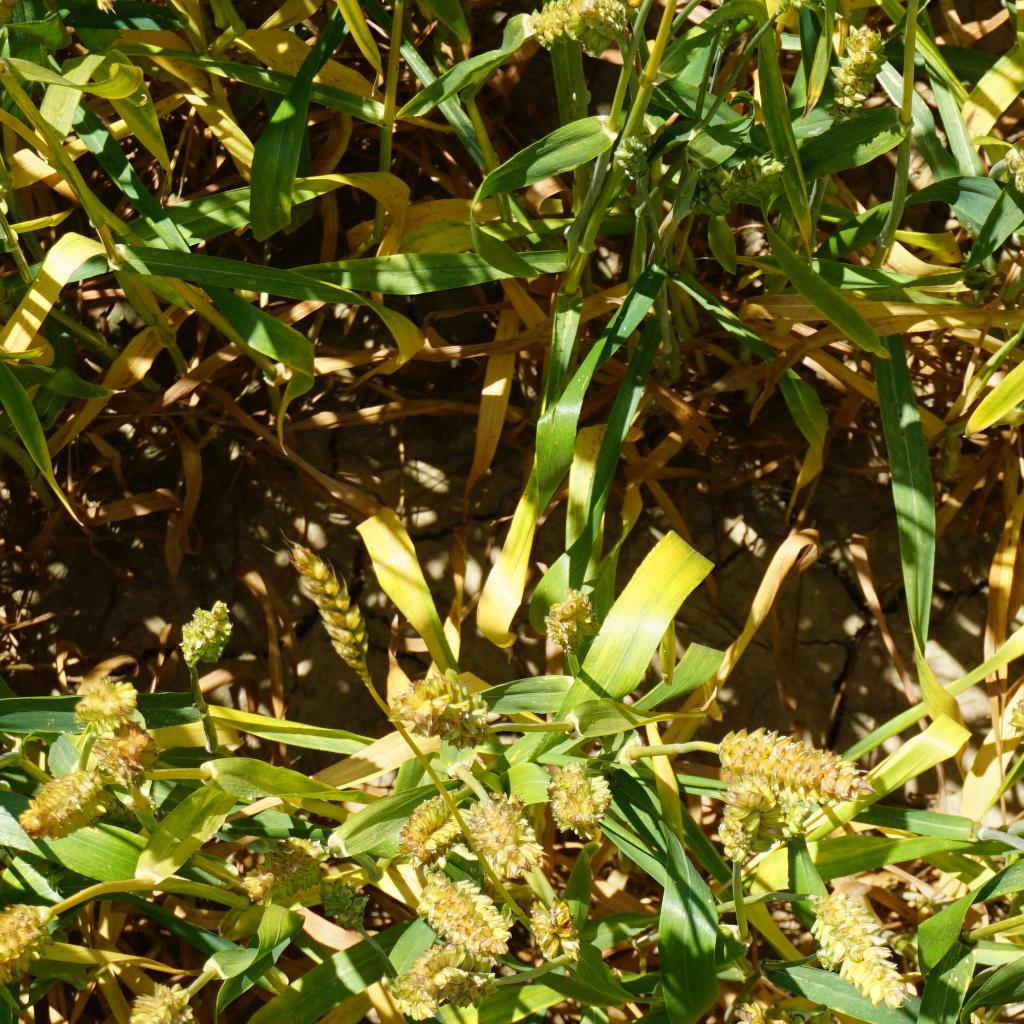0-0: (685, 713, 881, 806), (279, 530, 374, 685), (795, 882, 908, 999), (18, 752, 115, 846), (679, 147, 787, 228), (453, 790, 545, 885), (404, 873, 512, 953), (235, 826, 334, 904), (396, 674, 492, 751), (826, 18, 893, 122), (401, 930, 499, 998), (395, 783, 469, 867), (715, 772, 784, 852), (541, 583, 615, 656), (380, 956, 457, 1024), (548, 760, 615, 835), (534, 0, 627, 54), (175, 597, 239, 673), (113, 974, 207, 1024), (524, 887, 584, 964), (75, 671, 150, 731), (0, 899, 45, 993), (310, 875, 373, 932), (91, 727, 168, 771), (719, 996, 807, 1024), (609, 133, 653, 181), (0, 0, 28, 64), (1001, 141, 1024, 201), (1011, 688, 1024, 777)
